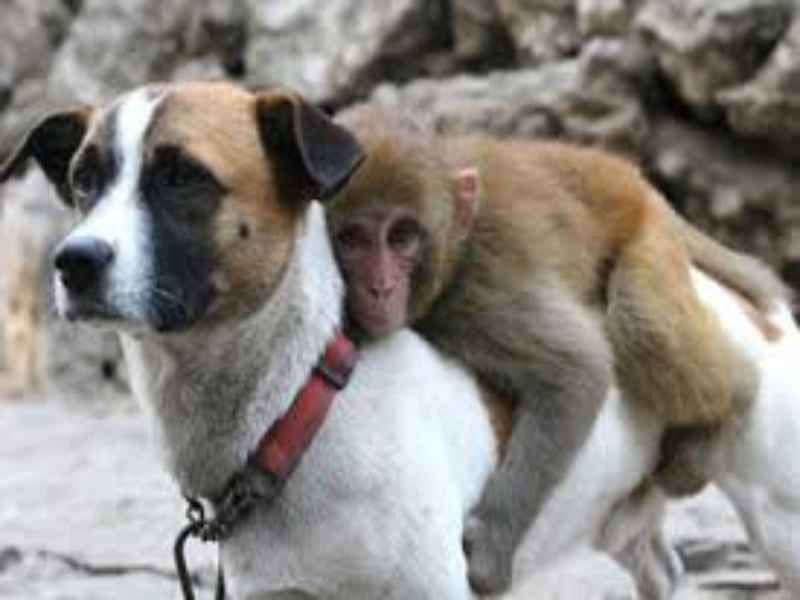monkey: (323, 130, 780, 461)
